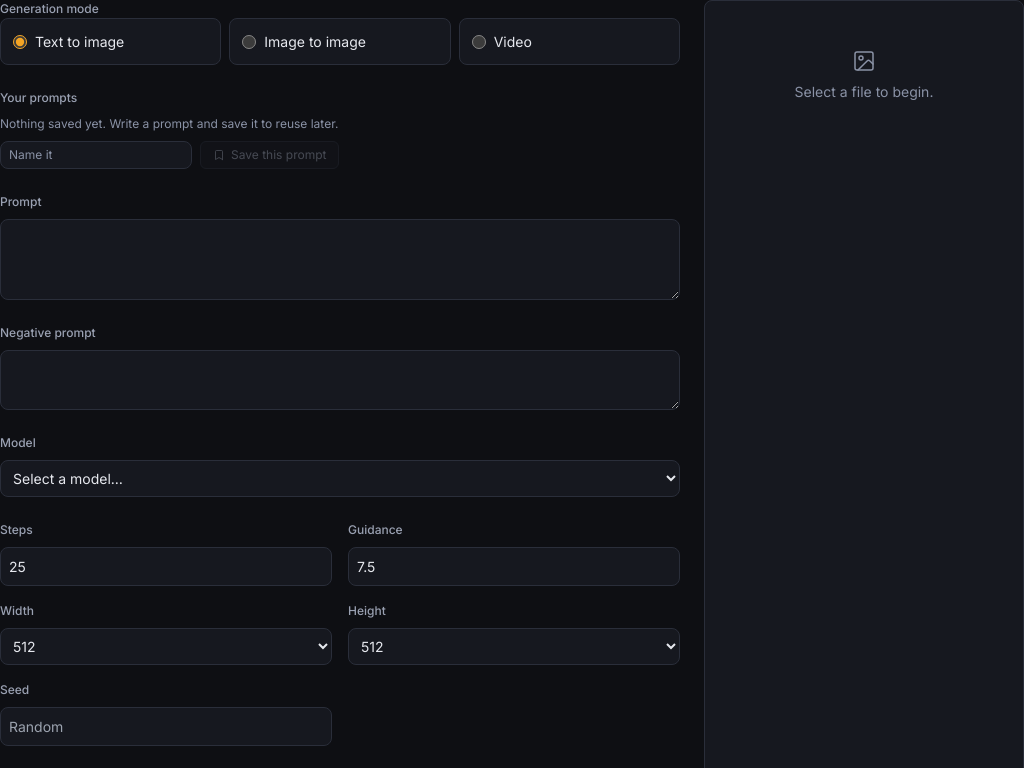
Test: GeneratePanel › defaults to text-to-image mode and keeps the existing panel workflow
expect the radio button labelled "Text to image" is checked: met, box [13,34,27,48]
expect the radio button labelled "Image to image" is not checked: met, box [242,34,256,48]
Type "a red fox in the snow" into the text box labelled "Prompt".
click(340, 260); type("a red fox in the snow")  # box [0,219,680,300]
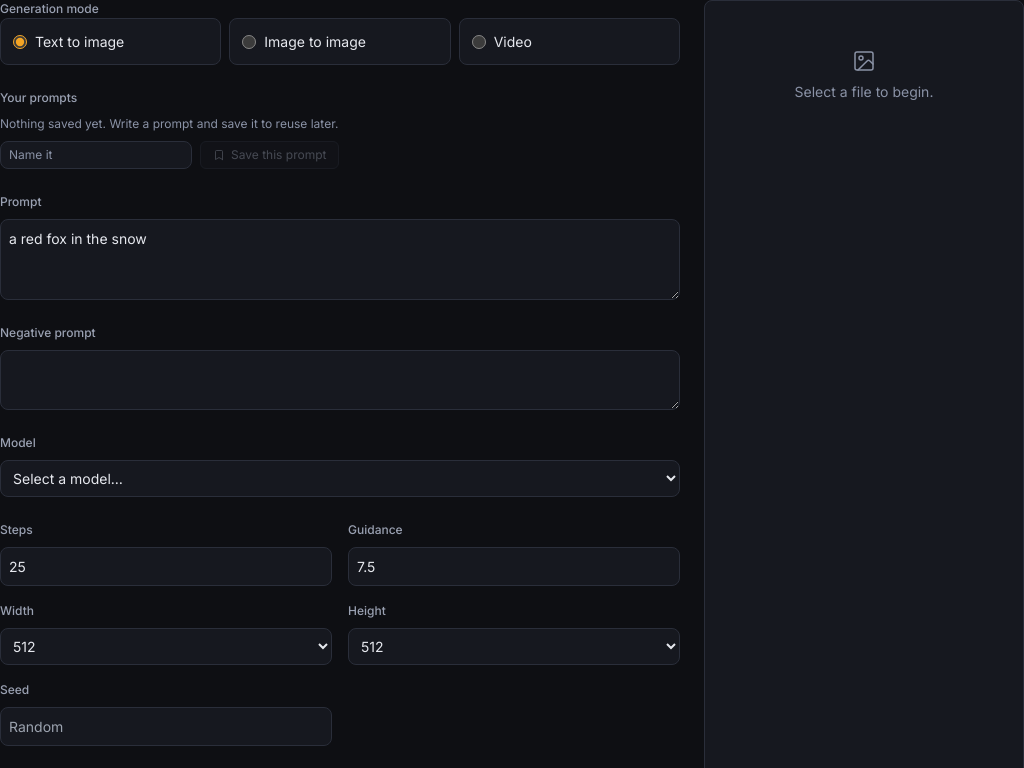
Select "SD 1.5 (ONNX)" in the dropdown labelled "Model" at {"x": 340, "y": 478}, box [0,460,680,497]
(page scrolled)
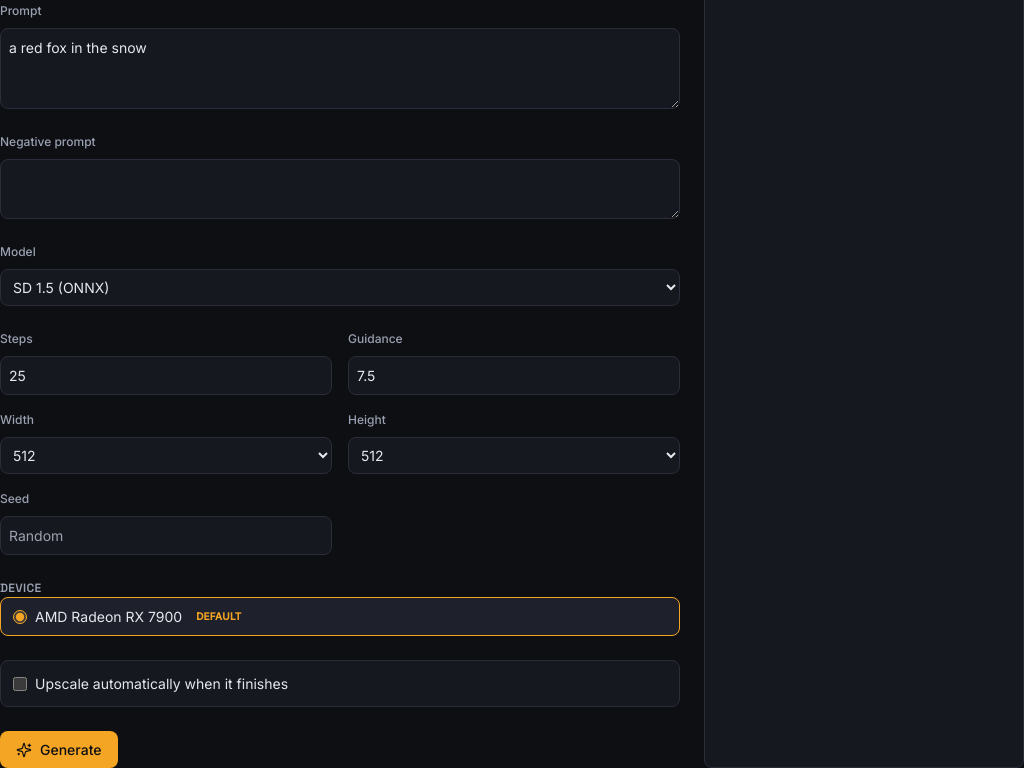
expect the button "Generate" is enabled: met, box [0,731,118,767]
